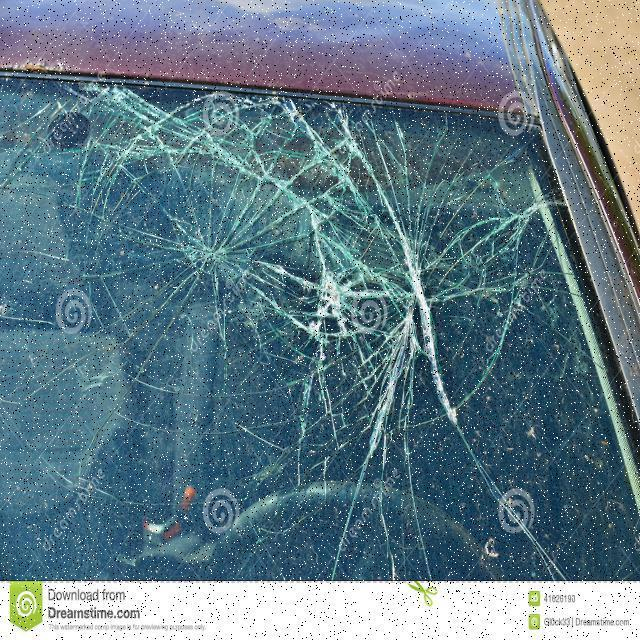Front-Windscreen-Damage: (0, 54, 612, 567)
